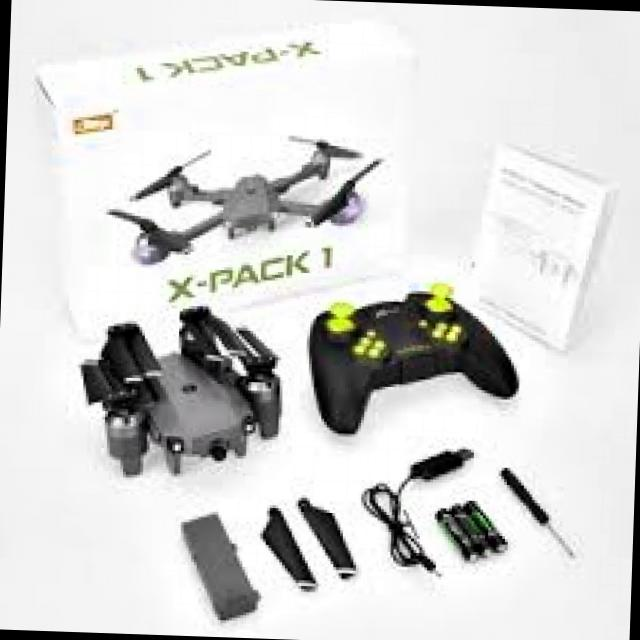drone: (95, 124, 412, 274)
